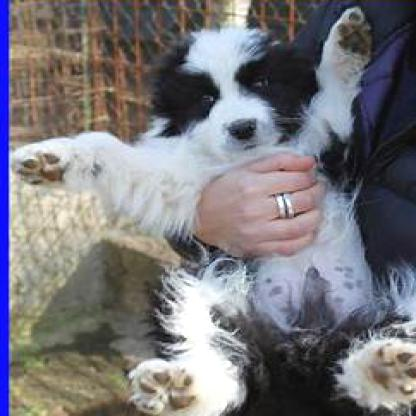dog: (14, 7, 414, 414)
